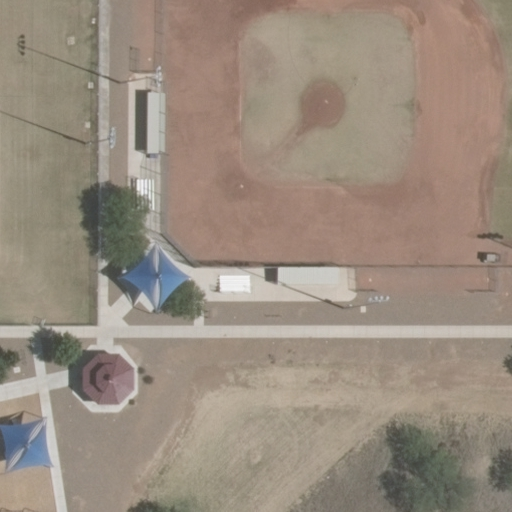DT: (116, 65, 165, 86), (345, 290, 392, 309), (86, 127, 119, 148)
